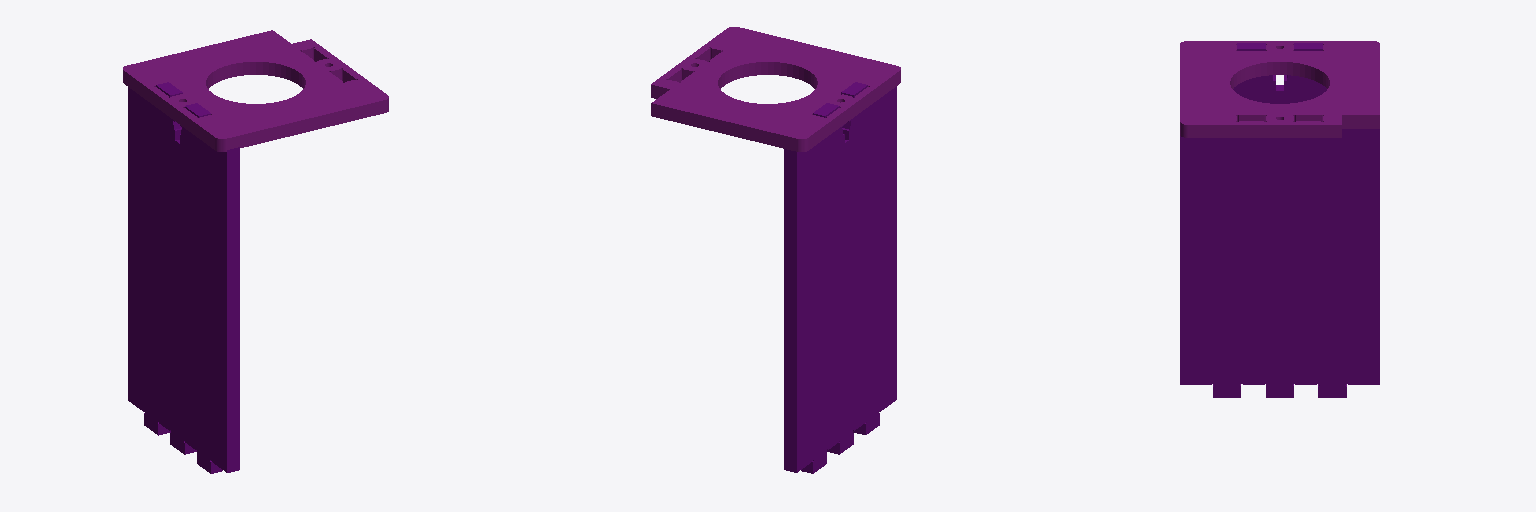
The model's file is G2_overview.obj.
3 views of the same model, side by side, from view 1: azimuth 30°, elevation 25°; view 2: azimuth 150°, elevation 25°; view 3: azimuth 270°, elevation 25° (orthographic).
Visible parts, largest first — view 1: Curve.011_Mesh.001, Curve.005_Mesh.000; view 2: Curve.011_Mesh.001, Curve.005_Mesh.000; view 3: Curve.011_Mesh.001, Curve.005_Mesh.000.
Part boxes in pixels (bbox=[...]): Curve.011_Mesh.001: bbox=[128, 82, 239, 473]; Curve.005_Mesh.000: bbox=[123, 30, 388, 151]; Curve.011_Mesh.001: bbox=[784, 82, 896, 473]; Curve.005_Mesh.000: bbox=[651, 27, 900, 151]; Curve.011_Mesh.001: bbox=[1180, 43, 1379, 397]; Curve.005_Mesh.000: bbox=[1180, 41, 1379, 137].
Size of the model in its own units: 2.76 by 5.32 by 2.76.